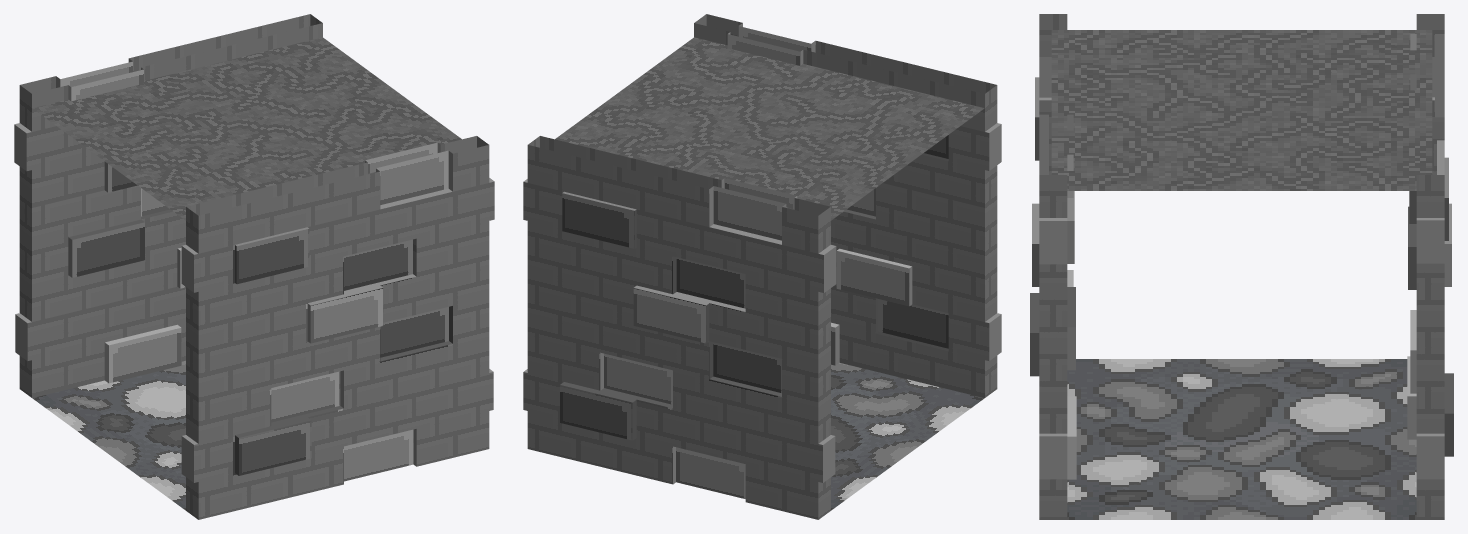
3 views of the same model, side by side, from view 1: azimuth 30°, elevation 25°; view 2: azimuth 150°, elevation 25°; view 3: azimuth 270°, elevation 25° (orthographic). The views are drawn at different scales.
Visible parts, largest first — view 1: 2WS-col; view 2: 2WS-col; view 3: 2WS-col.
Boxes of the visible parts, left/top/right/bottom form: 2WS-col: left=14, top=14, right=494, bottom=519; 2WS-col: left=523, top=14, right=1001, bottom=519; 2WS-col: left=1030, top=14, right=1453, bottom=519.
Size of the model in its own units: 2.08 by 2 by 2.23.
3 materials, 3 textured.
